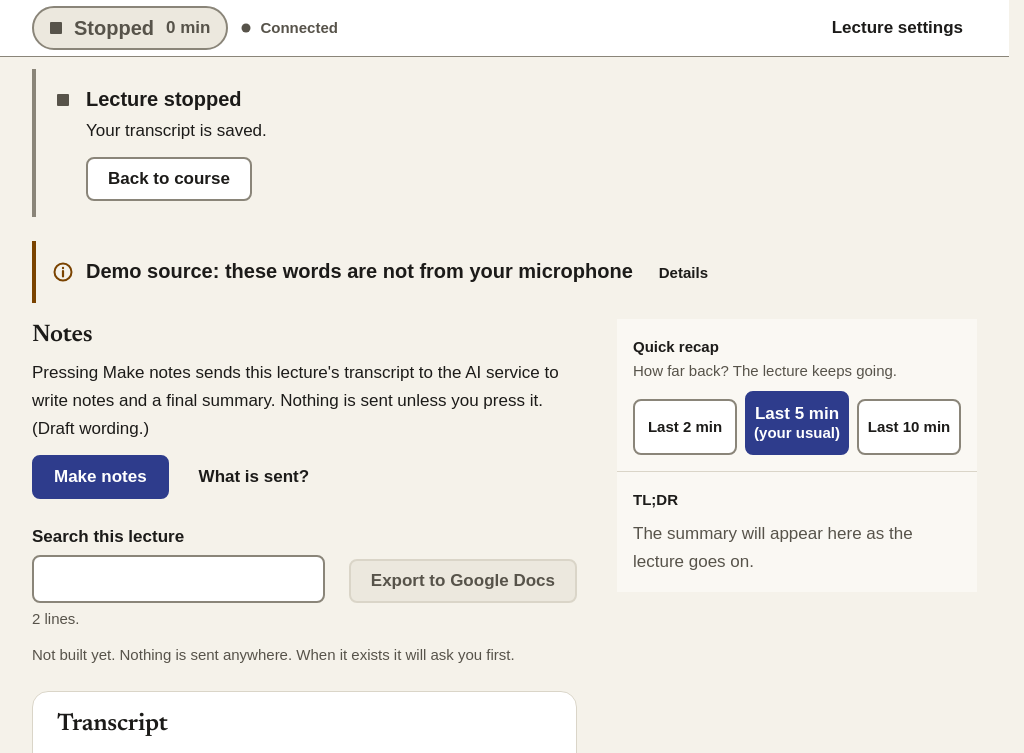
it: the press (1.5, AC3, AC4) › NotNeeded is final: its sentence, no button, one announcement
Click the button "Make notes" at point(100, 477), box [32,455,169,499]
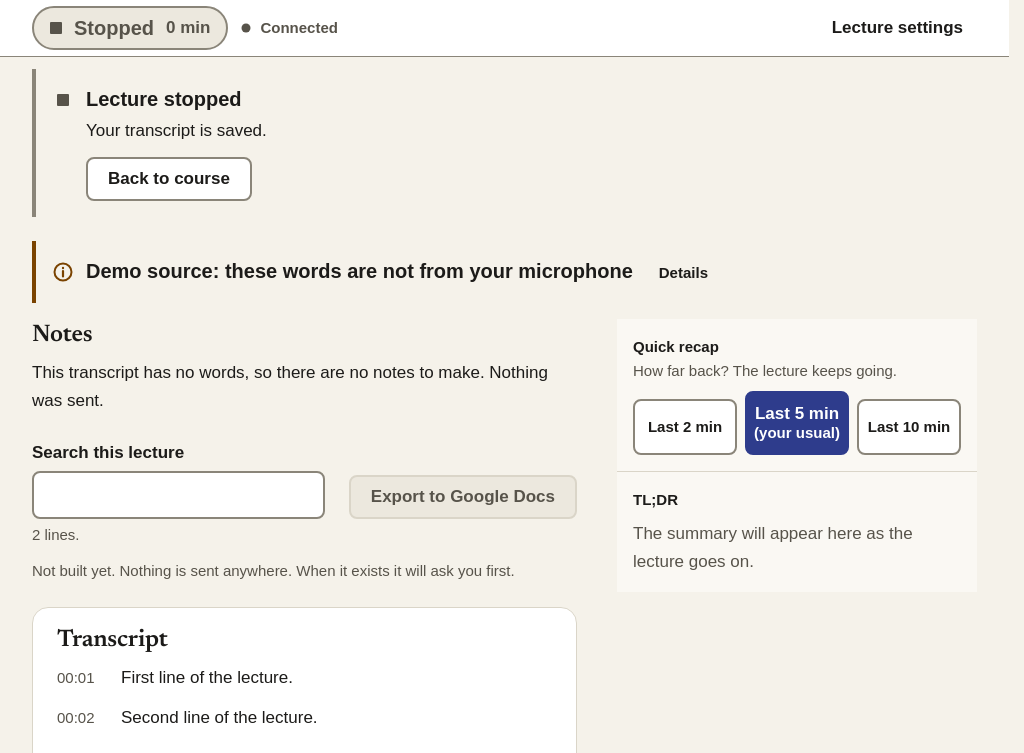
Check: the text with test id "notes-not-needed" reads "This transcript has no words, so there are no notes to make. Nothing was sent.", box [32,363,548,410]
Check: the text "Make notes" is gone
